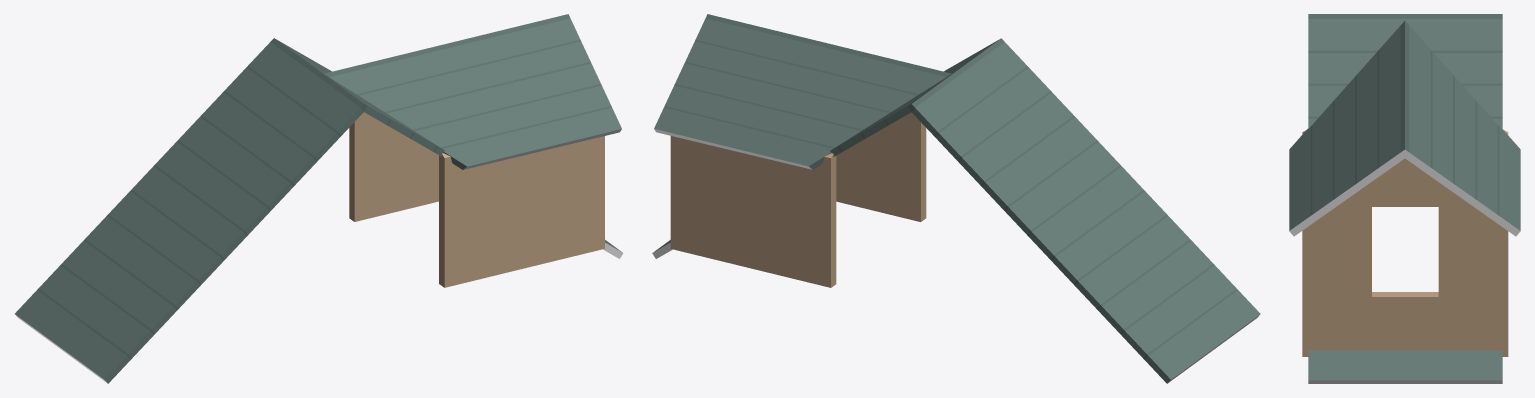
The model's file is Roof2_C6_05.fbx.
3 renders of one model, left to right at view 1: azimuth 30°, elevation 25°; view 2: azimuth 150°, elevation 25°; view 3: azimuth 270°, elevation 25°, orthographic. The views are drawn at different scales.
Parts seen in each view (by area): view 1: Roof2_C6_05; view 2: Roof2_C6_05; view 3: Roof2_C6_05.
Part boxes in pixels (x1=…): Roof2_C6_05: x1=15, y1=14, x2=623, y2=383; Roof2_C6_05: x1=652, y1=14, x2=1260, y2=383; Roof2_C6_05: x1=1289, y1=14, x2=1520, y2=383.
Size of the model in its own units: 833 by 334 by 298.
